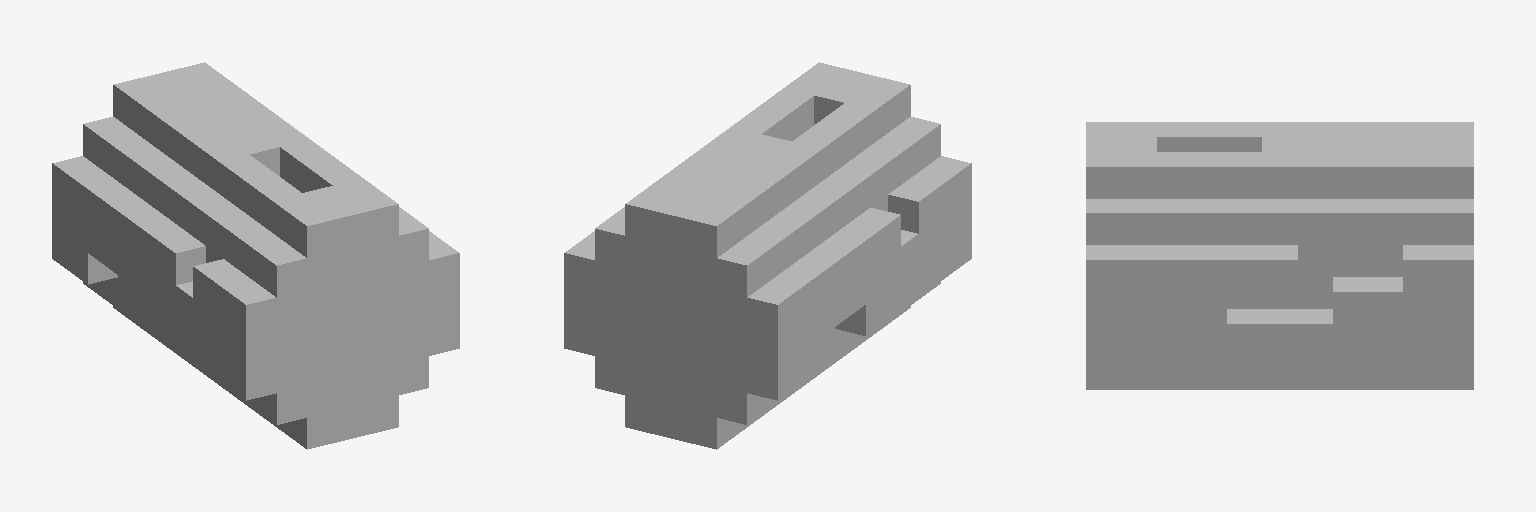
The model's file is Log.obj.
3 renders of one model, left to right at view 1: azimuth 30°, elevation 25°; view 2: azimuth 150°, elevation 25°; view 3: azimuth 270°, elevation 25°, orthographic.
Size of the model in its own units: 7 by 7 by 11.